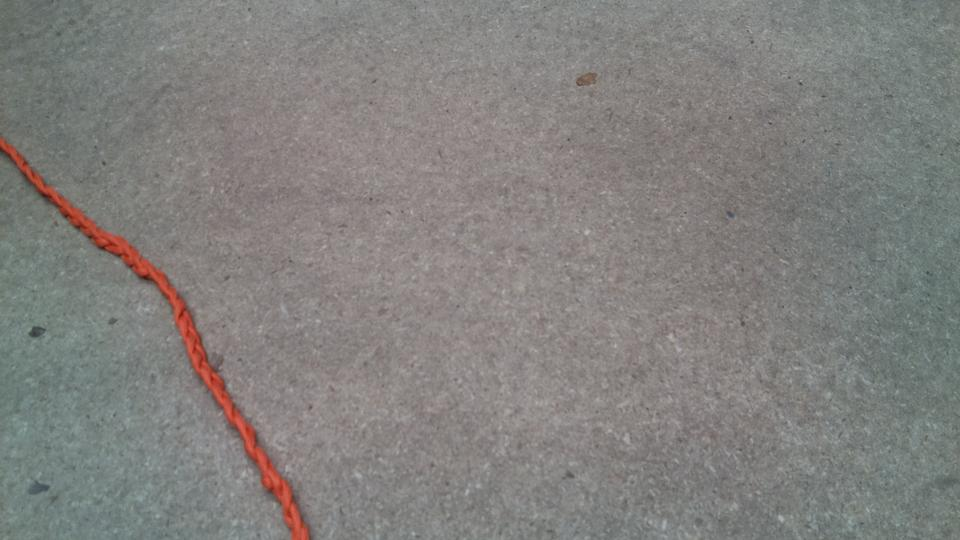rope: (9, 146, 303, 540)
